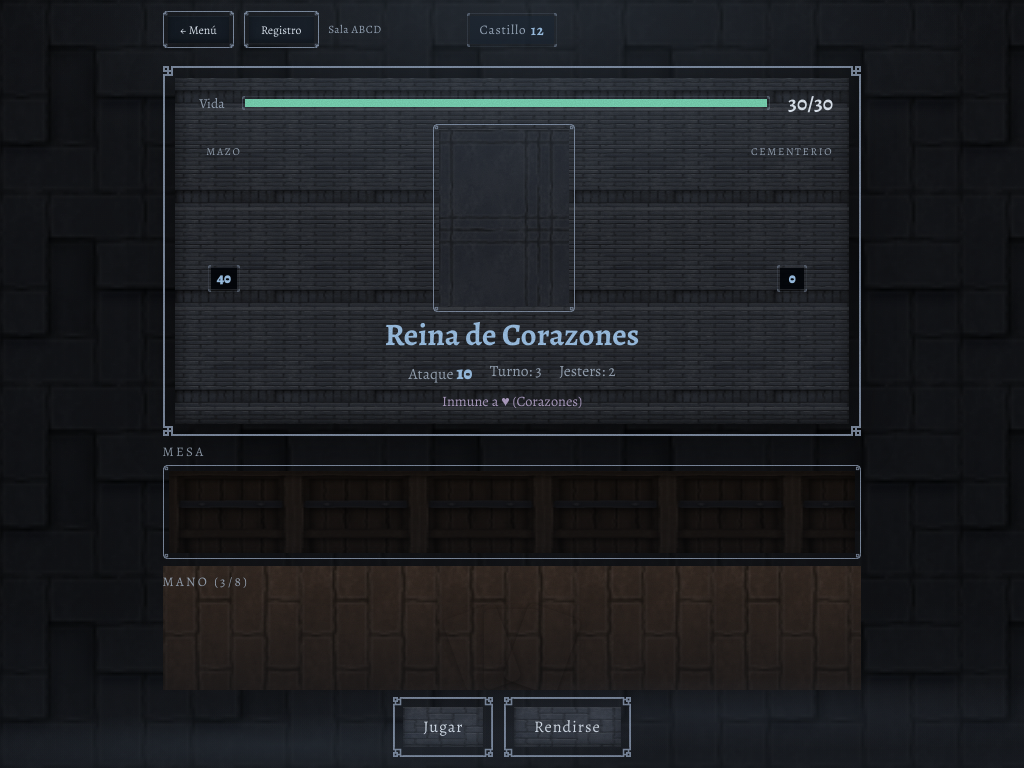
Test case: GameBoard › el botón Registro abre el overlay con el log y Escape lo cierra
Click the button "Registro": (281, 30) 244,11 -> 319,48
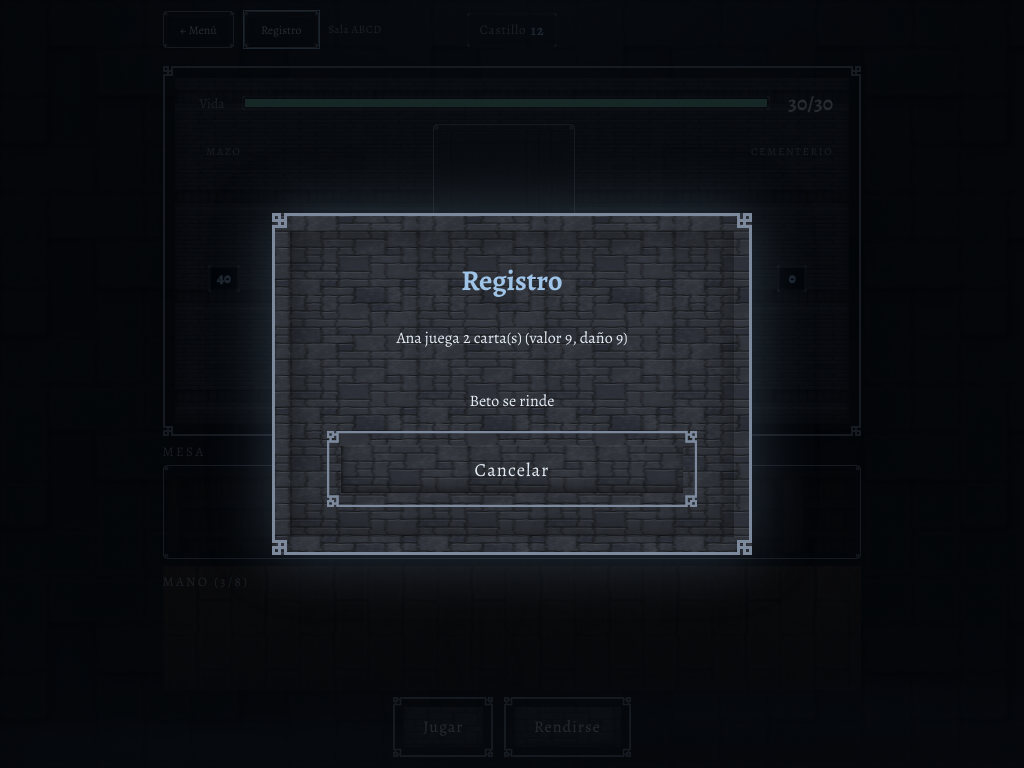
Expected: the text "Ana juega 2 carta(s) (valor 9, daño 9)" is shown, 396,327 -> 628,349
Press Escape
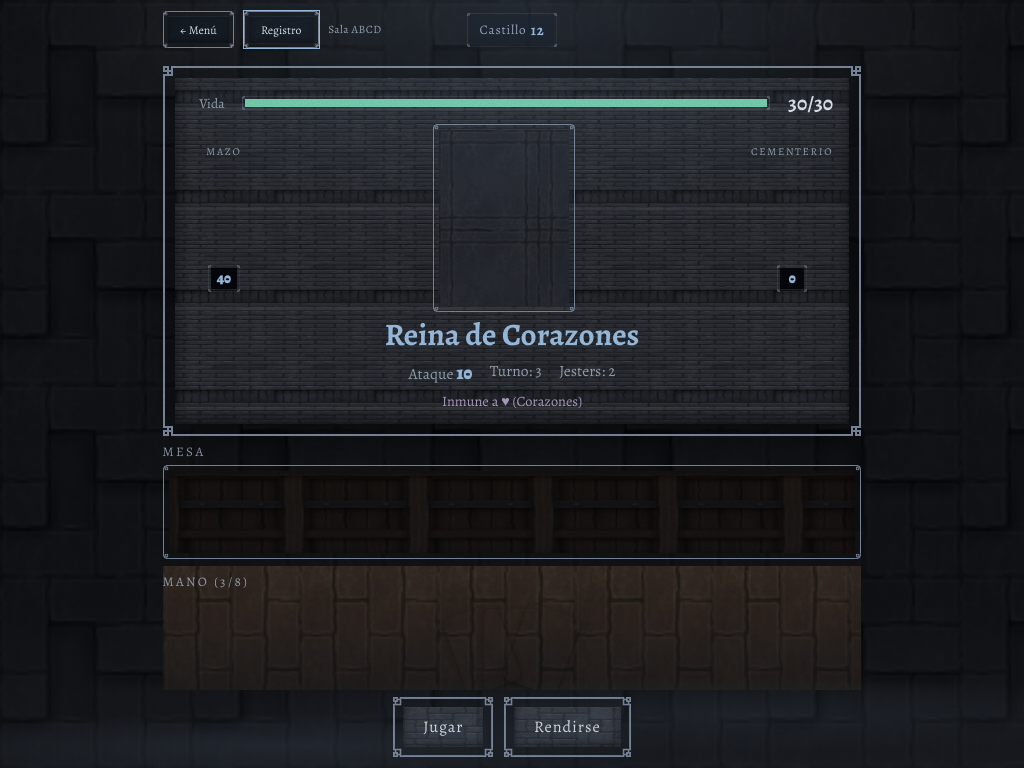
Expected: the dialog is gone
